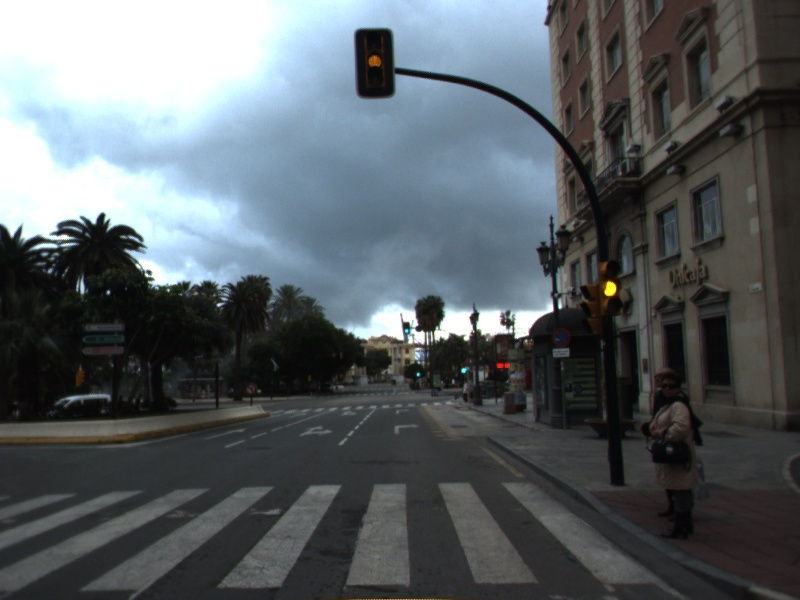RIGHT: (391, 420, 423, 437)
STRAIGHT: (201, 425, 249, 442)
STRAIGHT_RIGHT: (296, 423, 336, 439)
